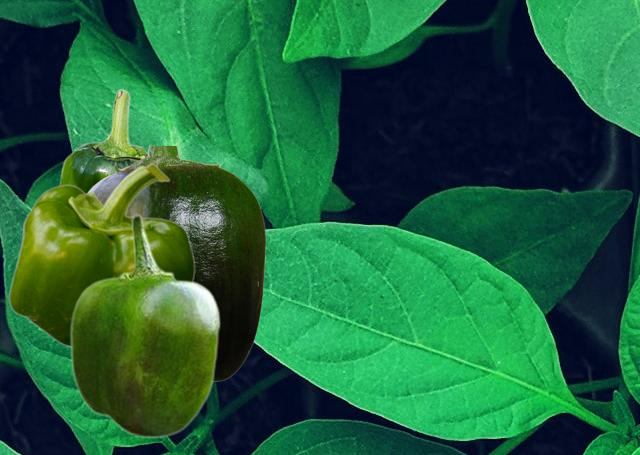bell_pepper: (88, 146, 265, 382), (8, 163, 194, 347), (69, 213, 220, 438), (58, 88, 146, 191)
